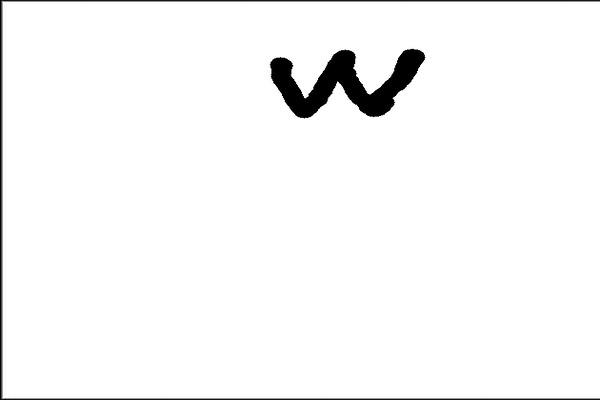w: (255, 33, 429, 132)
